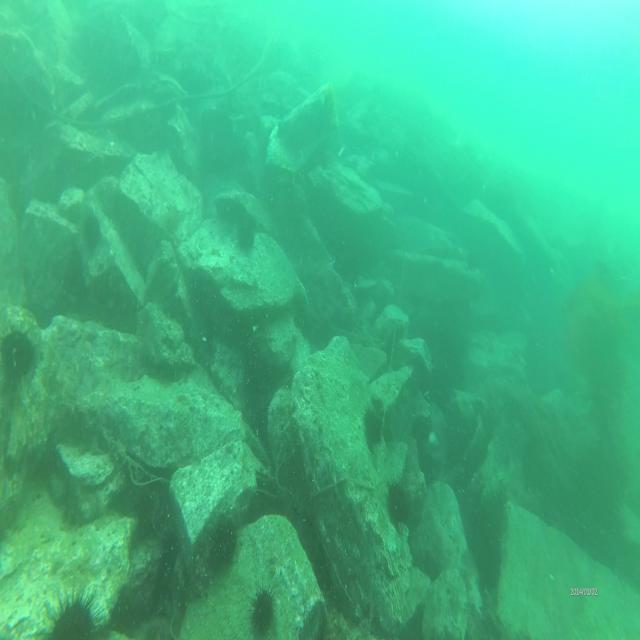echinus: (39, 590, 110, 640), (0, 322, 38, 390), (245, 581, 278, 640), (208, 518, 236, 578), (79, 211, 104, 265), (360, 404, 386, 452), (386, 481, 409, 533), (234, 213, 257, 257)
